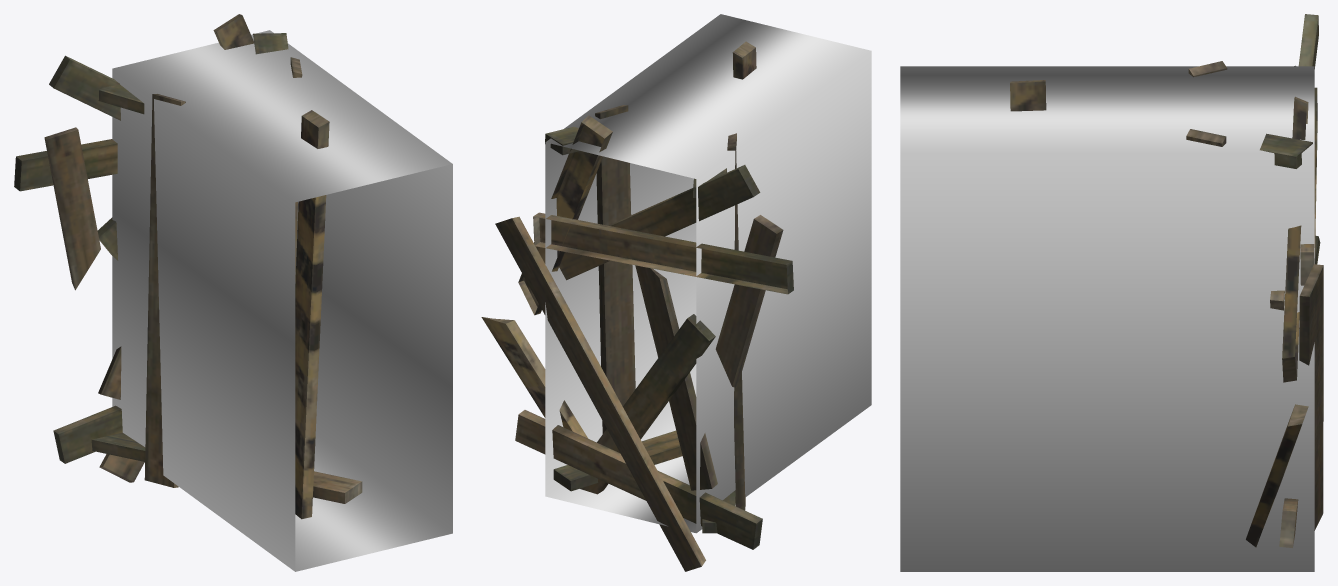
Rendered from hd_envAM_066_BarrierRepairwork2.glb.
3 views of the same model, side by side, from view 1: azimuth 30°, elevation 25°; view 2: azimuth 150°, elevation 25°; view 3: azimuth 270°, elevation 25° (orthographic). The views are drawn at different scales.
Parts seen in each view (by area): view 1: set_0_group_0, set_0_group_2, set_0_group_1; view 2: set_0_group_0, set_0_group_1, set_0_group_2; view 3: set_0_group_0, set_0_group_1, set_0_group_2.
Boxes of the visible parts, box(x1,y1,x2,y2) form: set_0_group_0: box(112, 30, 452, 571); set_0_group_2: box(91, 33, 362, 519); set_0_group_1: box(14, 14, 254, 482); set_0_group_0: box(545, 14, 871, 533); set_0_group_1: box(481, 115, 793, 571); set_0_group_2: box(545, 41, 756, 533); set_0_group_0: box(900, 66, 1314, 571); set_0_group_1: box(1246, 14, 1323, 547); set_0_group_2: box(1010, 61, 1312, 168).
Bounding box in the file's own units: 2.06 × 2.69 × 2.04.
3 materials, 2 textured.
